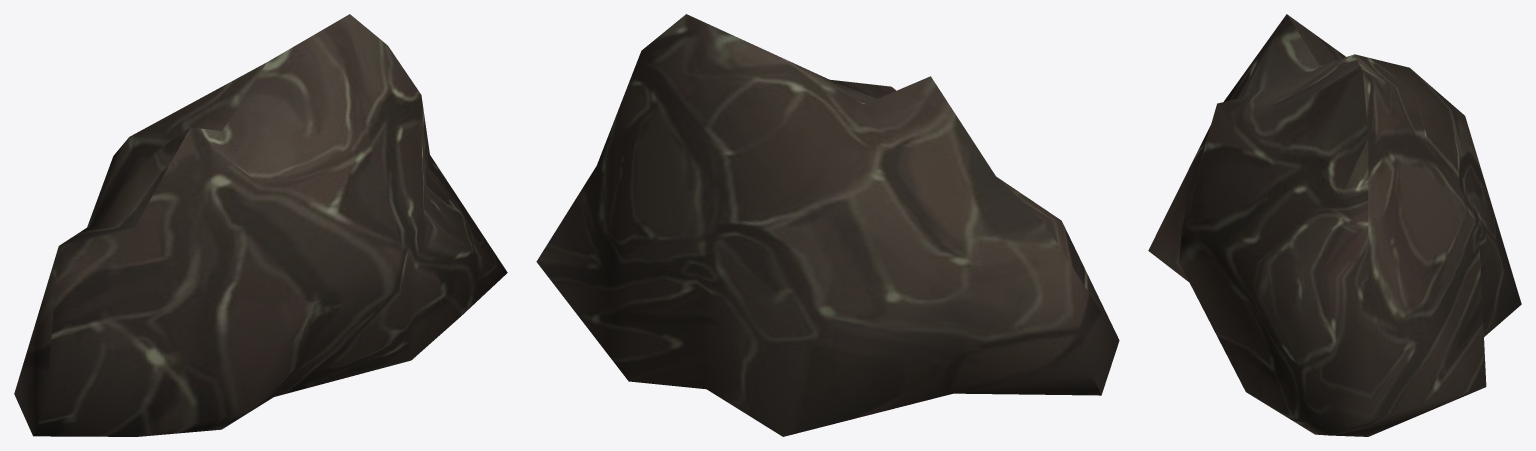
File: Mesh_LargeRock_02.FBX
3 views of the same model, side by side, from view 1: azimuth 30°, elevation 25°; view 2: azimuth 150°, elevation 25°; view 3: azimuth 270°, elevation 25° (orthographic). The views are drawn at different scales.
Visible parts, largest first — view 1: PM3D_Sphere3D_1; view 2: PM3D_Sphere3D_1; view 3: PM3D_Sphere3D_1.
Part boxes in pixels (x1,y1,x2,y2): PM3D_Sphere3D_1: (14, 14, 507, 436); PM3D_Sphere3D_1: (536, 14, 1119, 436); PM3D_Sphere3D_1: (1148, 14, 1521, 436).
Bounding box in the file's own units: 79.49 × 46.29 × 49.51.
